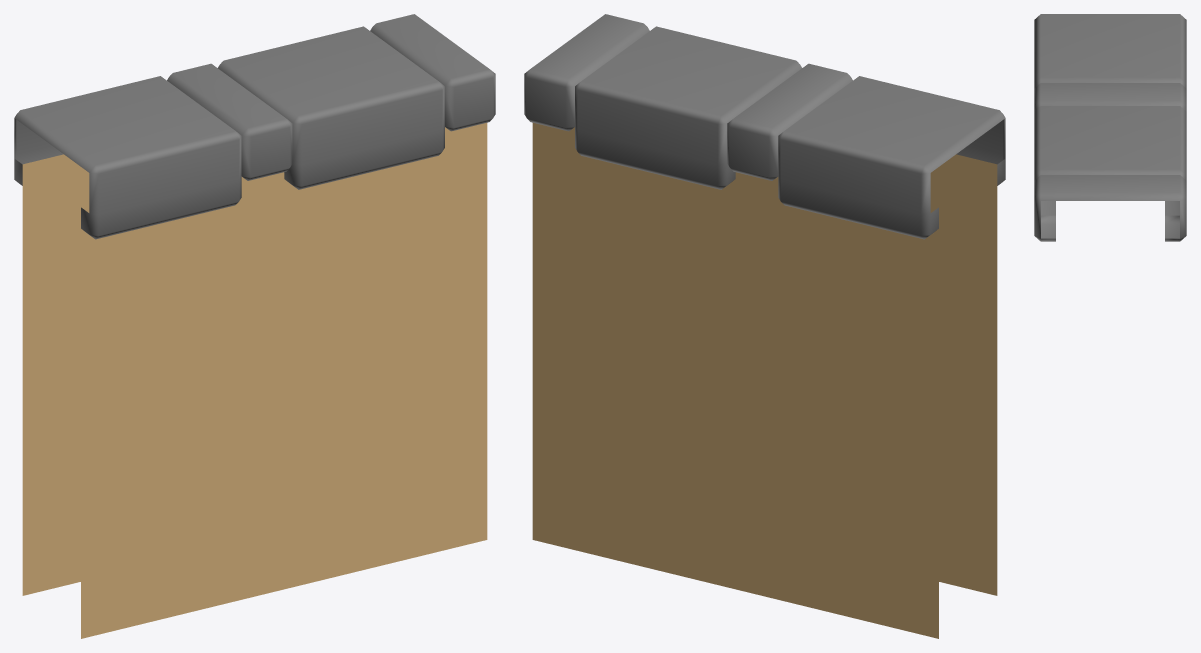
Rendered from SM_WallA_4x4_LOD0.fbx.
The picture shows the model from 3 angles, left to right: view 1: azimuth 30°, elevation 25°; view 2: azimuth 150°, elevation 25°; view 3: azimuth 270°, elevation 25°; orthographic projection. The views are drawn at different scales.
Parts seen in each view (by area): view 1: SM_WallA_4x4_LOD0; view 2: SM_WallA_4x4_LOD0; view 3: SM_WallA_4x4_LOD0.
Boxes of the visible parts, bbox=[...] form: SM_WallA_4x4_LOD0: bbox=[14, 14, 495, 638]; SM_WallA_4x4_LOD0: bbox=[524, 14, 1005, 638]; SM_WallA_4x4_LOD0: bbox=[1034, 14, 1186, 241].
Bounding box in the file's own units: 4 × 4.5 × 1.4.
